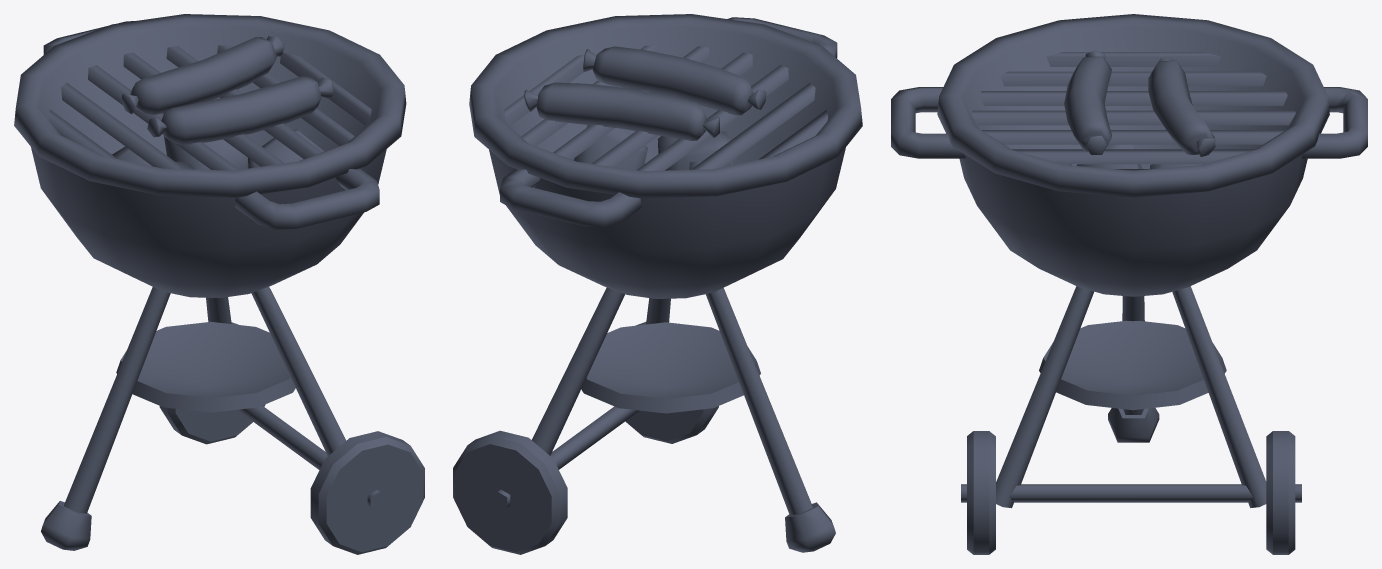
The model's file is Grill.FBX.
3 renders of one model, left to right at view 1: azimuth 30°, elevation 25°; view 2: azimuth 150°, elevation 25°; view 3: azimuth 270°, elevation 25°, orthographic.
Parts seen in each view (by area): view 1: Grill; view 2: Grill; view 3: Grill.
Part boxes in pixels (box(x1,y1,x2,y2)): Grill: box(14, 14, 424, 554); Grill: box(453, 14, 862, 554); Grill: box(891, 14, 1367, 554).
Size of the model in its own units: 94.74 by 114 by 115.
